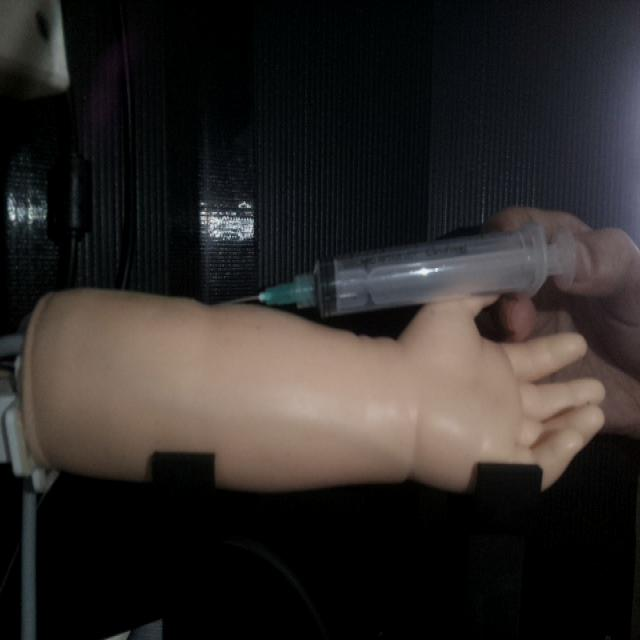Below 15 degrees: (225, 219, 577, 320)
